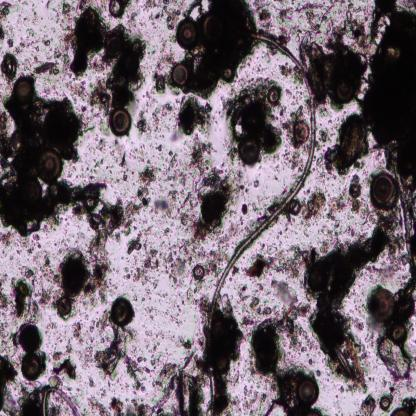Background material: (0, 79, 100, 231), (302, 223, 388, 355), (366, 0, 416, 172), (250, 312, 323, 416), (196, 0, 258, 102), (186, 138, 238, 242), (222, 77, 289, 157), (308, 33, 367, 111), (129, 358, 204, 415), (53, 247, 110, 319), (126, 236, 190, 296), (254, 1, 341, 45), (99, 326, 151, 392), (214, 297, 243, 414), (272, 278, 316, 353), (77, 181, 132, 240), (106, 25, 144, 106), (327, 112, 370, 175), (72, 2, 106, 79), (361, 231, 406, 289), (374, 332, 416, 392), (137, 294, 175, 355), (339, 0, 381, 53), (327, 172, 370, 223), (126, 168, 158, 236), (11, 269, 52, 320), (204, 219, 237, 280), (175, 96, 214, 144), (166, 190, 203, 237), (156, 144, 191, 193), (80, 313, 108, 369), (269, 243, 307, 280), (56, 0, 74, 75), (318, 223, 358, 255), (136, 103, 175, 134), (49, 345, 77, 385), (353, 338, 372, 392), (153, 52, 175, 96), (0, 233, 40, 256), (34, 250, 57, 290), (185, 282, 209, 320), (18, 27, 52, 52), (86, 394, 125, 415), (90, 79, 111, 117), (24, 58, 60, 79), (110, 143, 129, 182), (305, 189, 326, 223), (244, 255, 272, 278), (317, 129, 328, 186), (154, 192, 178, 218), (247, 295, 273, 318), (284, 143, 304, 172), (66, 77, 89, 102), (0, 52, 18, 83), (136, 145, 158, 169), (279, 65, 305, 85), (161, 5, 180, 32), (0, 273, 10, 313), (240, 318, 257, 341), (0, 23, 15, 48), (338, 378, 358, 396), (362, 394, 378, 414), (178, 334, 194, 352), (0, 0, 12, 23), (72, 321, 82, 345), (291, 105, 305, 119), (144, 0, 159, 12), (149, 14, 161, 28), (240, 202, 249, 217), (89, 376, 96, 389), (253, 180, 261, 191)
Cellulose filter fibre: (392, 163, 416, 287)
Diatom: (367, 286, 394, 322), (35, 150, 63, 183), (176, 18, 200, 52), (369, 174, 396, 204), (111, 296, 136, 326), (236, 137, 260, 166), (298, 376, 318, 407), (110, 108, 132, 136), (333, 76, 356, 102), (20, 324, 41, 352), (334, 346, 352, 376), (171, 61, 191, 88), (22, 352, 42, 379), (14, 78, 34, 103), (389, 323, 408, 344), (107, 0, 128, 19), (292, 121, 309, 142), (267, 84, 281, 105), (299, 34, 309, 57), (221, 67, 235, 83), (389, 406, 411, 416), (192, 266, 205, 282), (379, 395, 390, 412), (289, 201, 301, 215)
Microfibre: (205, 33, 317, 415), (43, 386, 80, 416)
